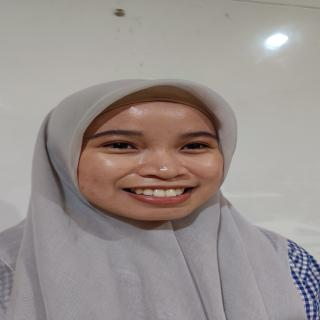Senang: (68, 94, 239, 228)
